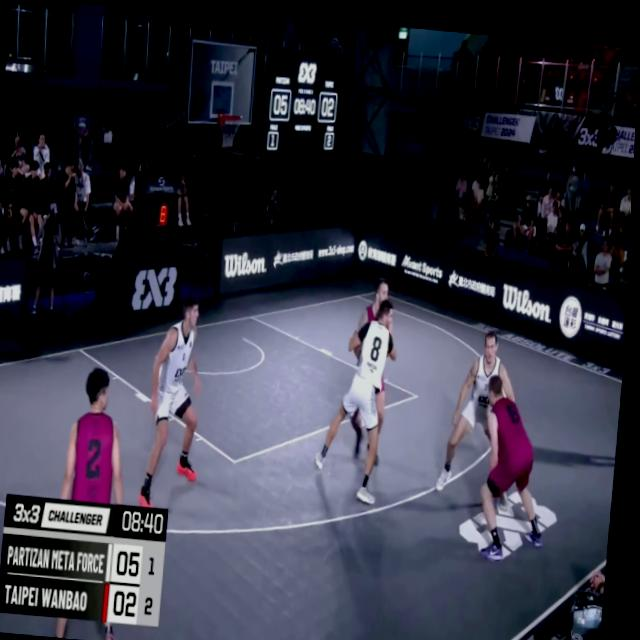ball: (497, 479, 512, 503)
hoop: (217, 105, 245, 150)
player: (48, 362, 153, 640), (317, 287, 398, 503), (476, 369, 556, 553), (144, 296, 212, 507), (444, 326, 524, 500), (348, 271, 407, 463)
